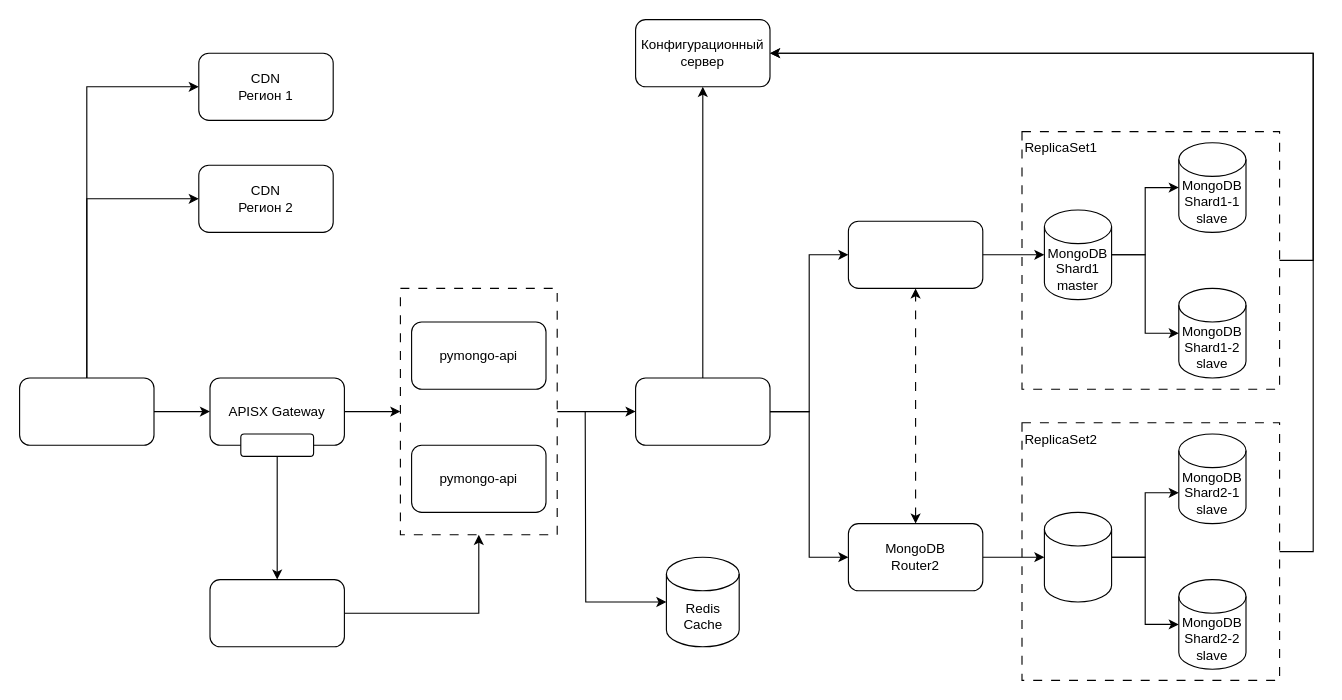
Some shapes in this 1342 by 700 pixel diagram are drawn without their labels. Each missing label, with the centre of its shape:
Consul Service Discovery: point 276,612
consul_kv: point 277,444
MongoDB Router1: point 915,254
MongoDB Shard2 master: point 1077,556
Драйвер: point 702,411
Сайт React/Nginx: point 86,411
